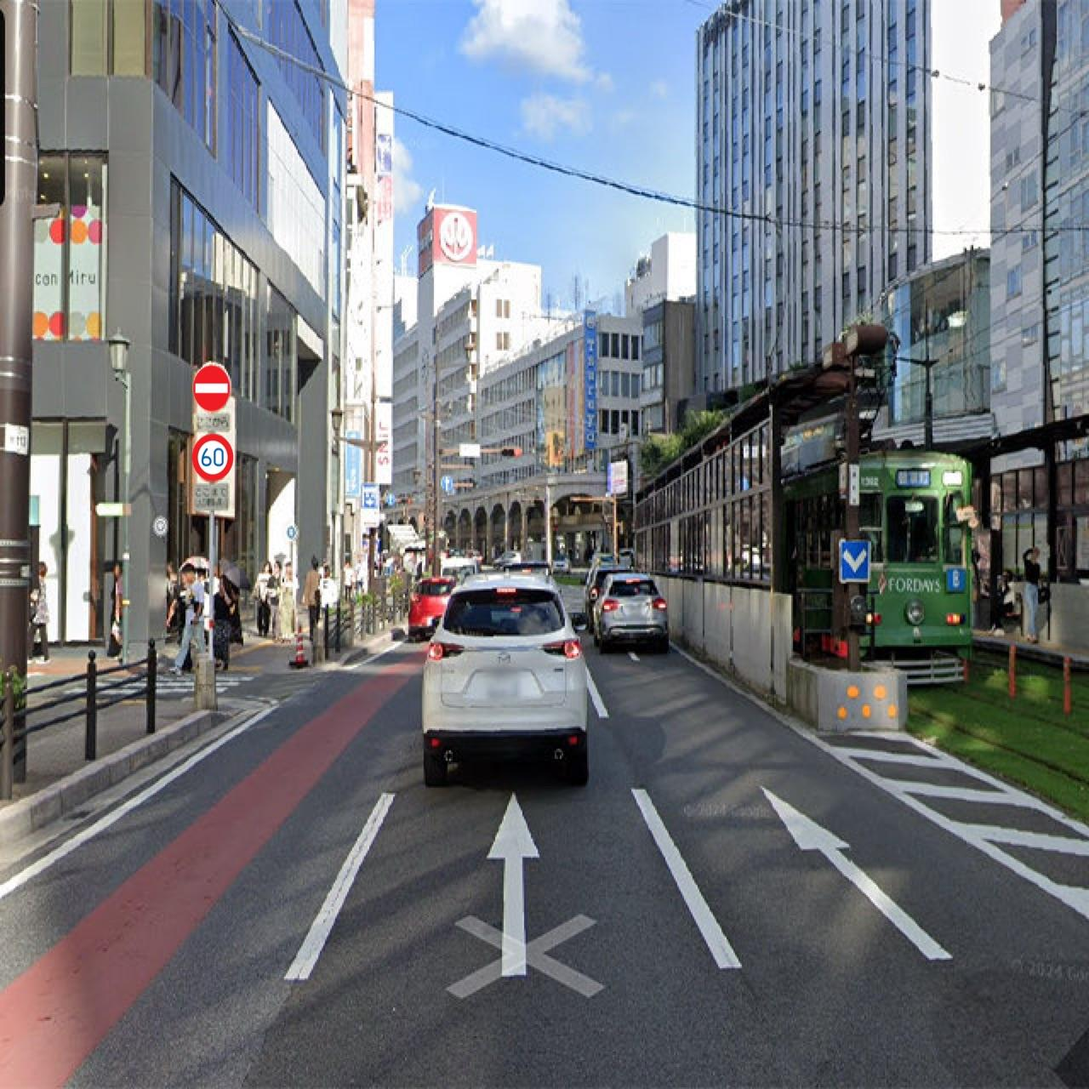barrier: (190, 364, 231, 412)
